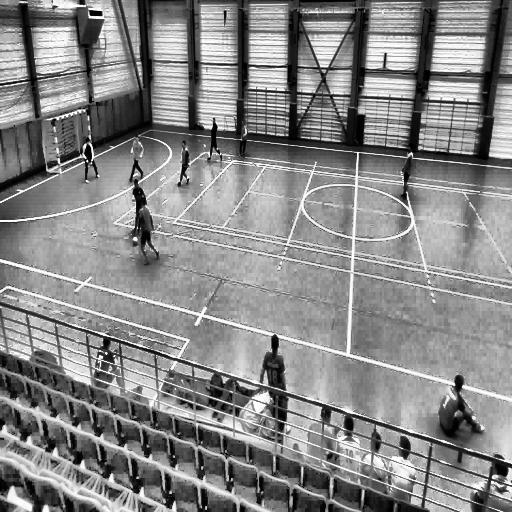ball: (132, 235, 139, 249)
player: (136, 195, 158, 262), (130, 178, 148, 238), (82, 136, 100, 182), (400, 142, 413, 200), (129, 136, 145, 181), (207, 118, 223, 162), (177, 140, 191, 186), (239, 117, 248, 157)
